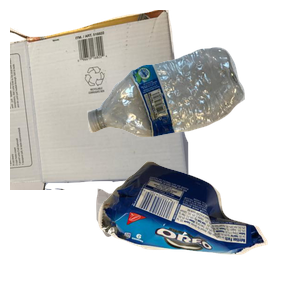cardboard: (10, 10, 191, 190)
glass: (94, 184, 253, 300)
plastic: (85, 45, 300, 175)
trash: (95, 158, 300, 300)
